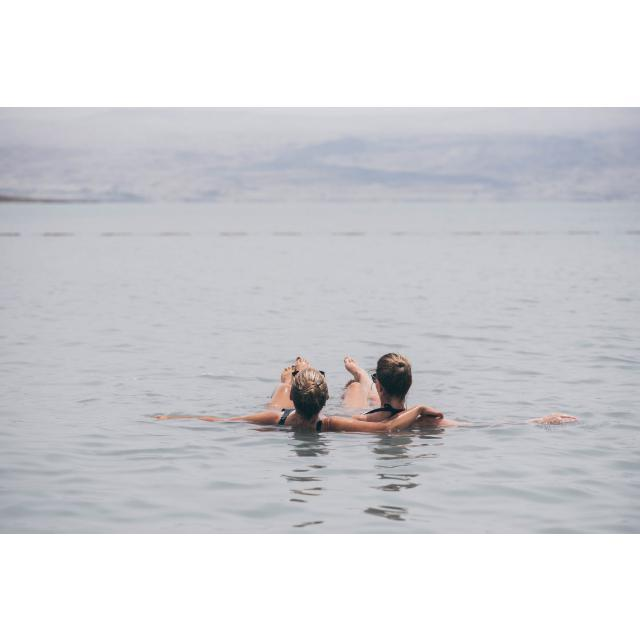human: (343, 356, 451, 428), (252, 355, 342, 431)
